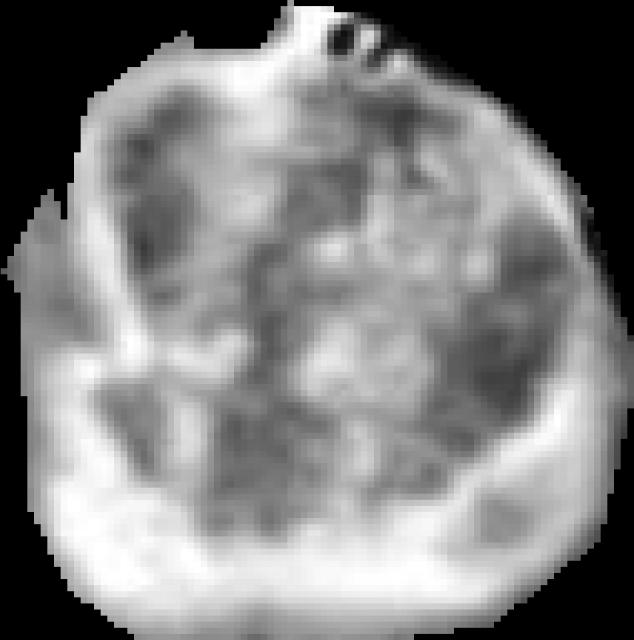tumor_good_chance: (1, 0, 634, 640)
